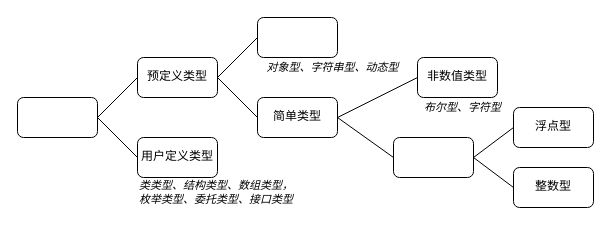
The diagram is 611 pixels wide and 225 high, and some of its shapes have lost their labels. Here are the shapes that lost their labels. From the top down, the centre of each, then its label:
[297,37]: 非简单类型
[57,117]: C#类型
[433,157]: 数值类型
